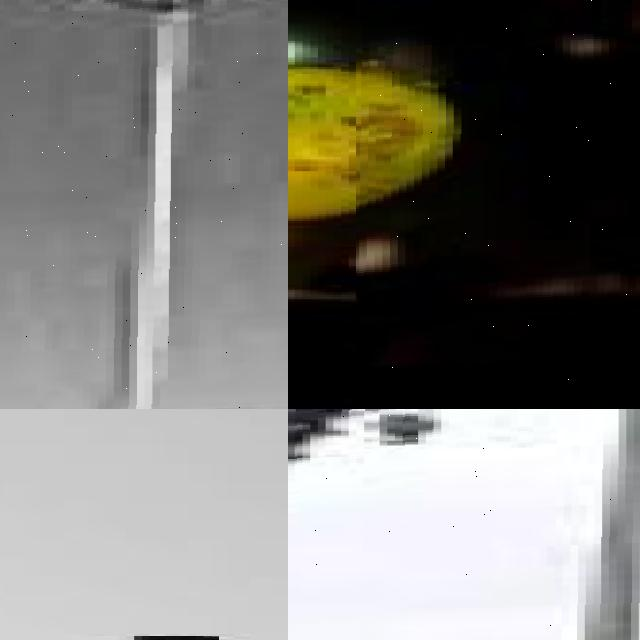street light: (288, 0, 626, 389), (0, 0, 288, 409), (356, 0, 640, 409), (288, 409, 640, 640)
